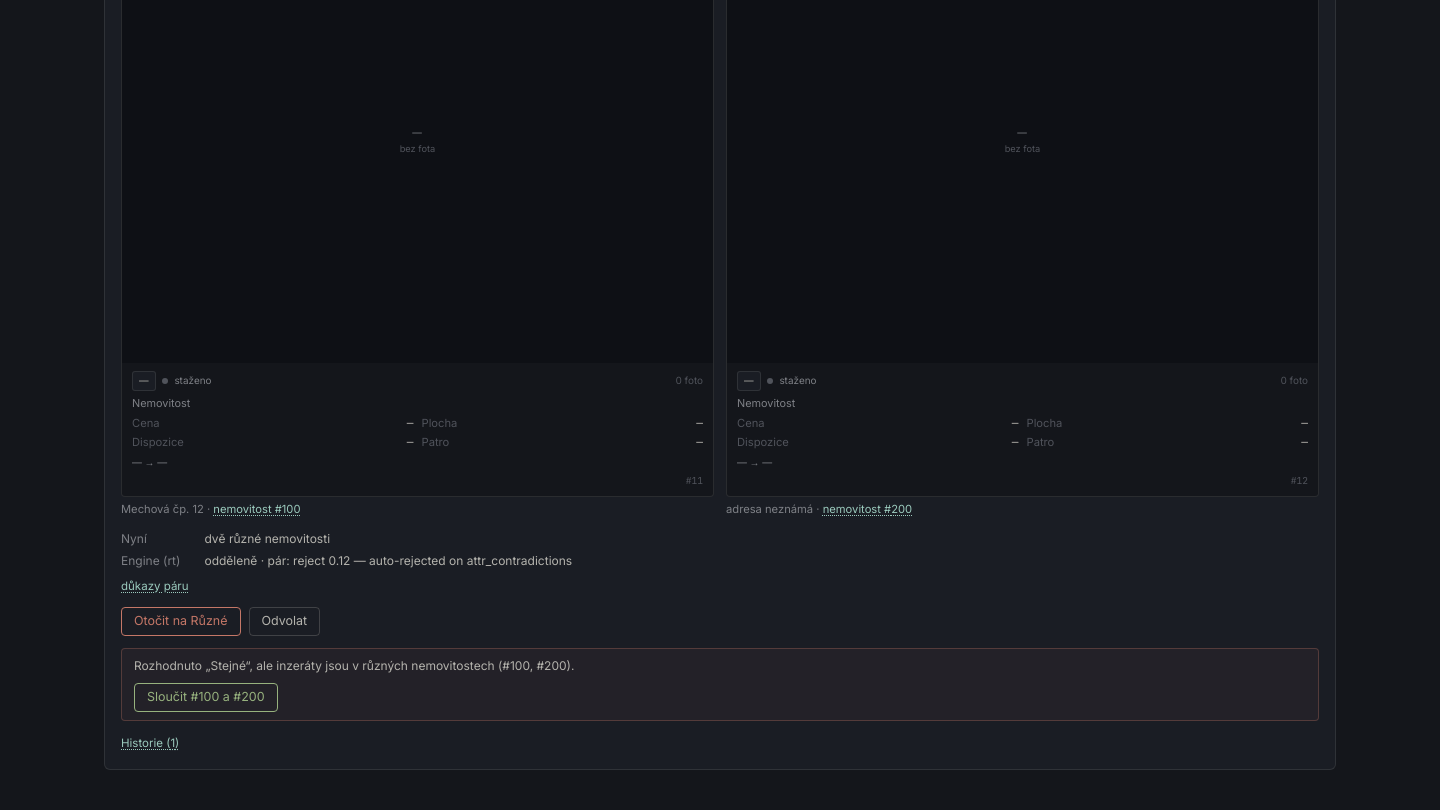
<AutodedupRulings> the list › shows the ruling, where the adverts are now and what the engine does
(page scrolled)
Check: the text "dvě různé nemovitosti" is shown, box [204,531,330,546]
Check: the text "odděleně · pár: reject 0.12" is shown, box [204,553,572,568]
Click the button "Historie (1)".
click(150, 743)  # box [121,735,179,752]
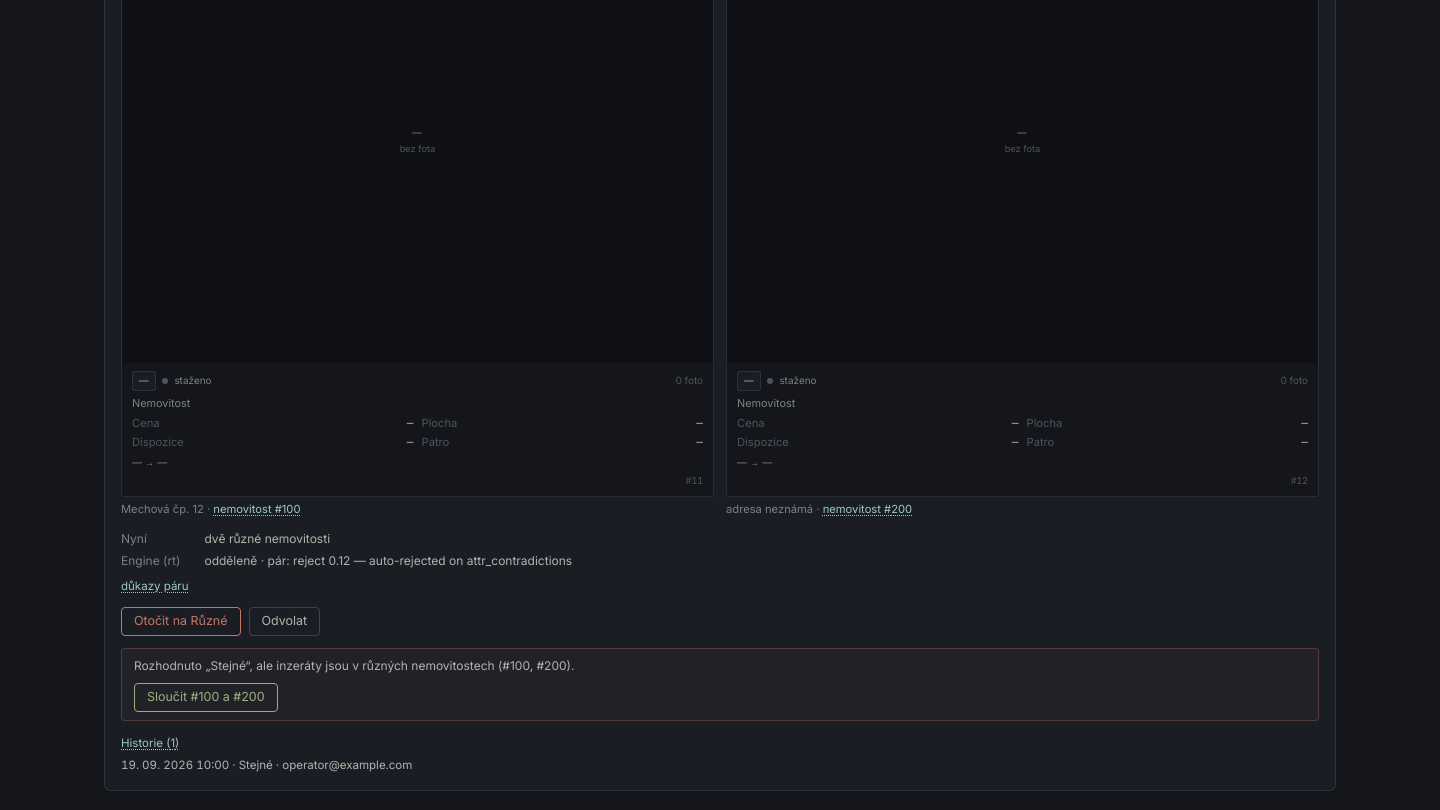
Check: the list item "19. 09. 2026 10:00 · Stejné · operator@example.com" is shown, box [121,758,412,772]
